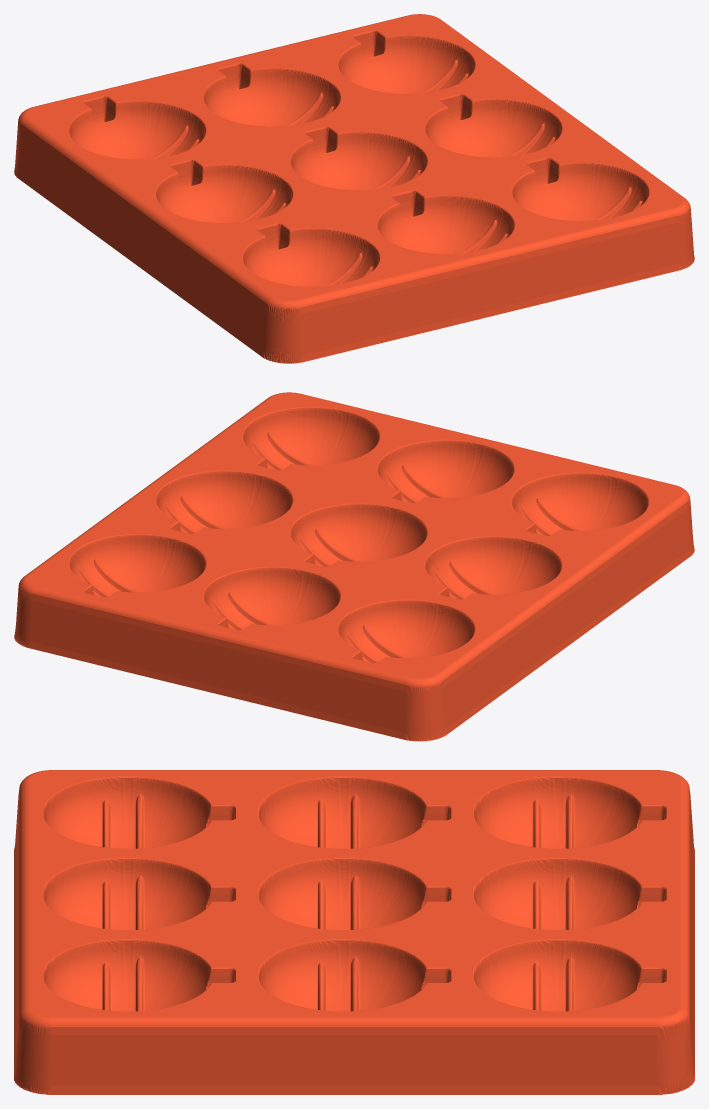
File: mold.glb
The picture shows the model from 3 angles, top to bottom: view 1: azimuth 30°, elevation 25°; view 2: azimuth 150°, elevation 25°; view 3: azimuth 270°, elevation 25°; orthographic projection. The views are drawn at different scales.
Visible parts, largest first — view 1: geometry_0; view 2: geometry_0; view 3: geometry_0.
Part boxes in pixels (<box>): geometry_0: <box>14,14,694,363</box>; geometry_0: <box>14,392,694,741</box>; geometry_0: <box>14,770,694,1094</box>.
Bounding box in the file's own units: 0.1435 × 0.0185 × 0.1595.
